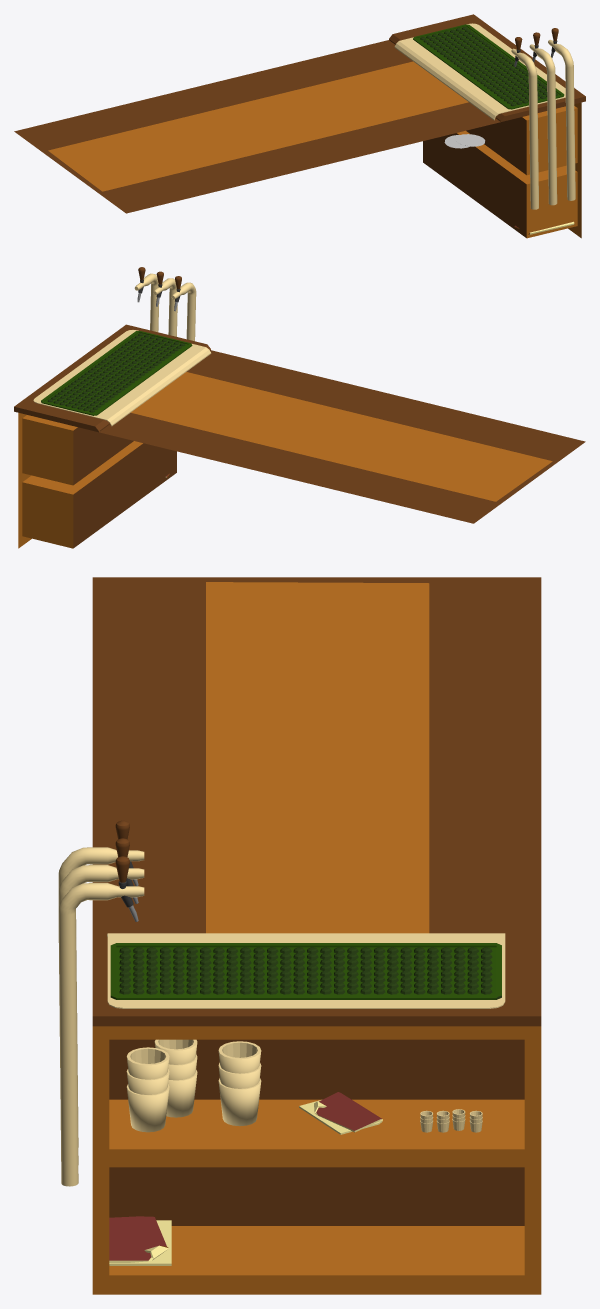
Rendered from Table_whith_color.FBX.
3 renders of one model, top to bottom at view 1: azimuth 30°, elevation 25°; view 2: azimuth 150°, elevation 25°; view 3: azimuth 270°, elevation 25°, orthographic. The views are drawn at different scales.
Visible parts, largest first — view 1: stol, bigpodstavka, skatert, kran.000, kran.002, kran.001, Podstavkapodkrygky.002; view 2: stol, bigpodstavka, skatert, kran.001, kran.002, kran.000; view 3: stol, bigpodstavka, skatert, kran.002, Cylinder.002, stakan, Plane.001, Cylinder.001, tryapka, kran.000, kran.001.
Part boxes in pixels (left/top/right/bottom): stol: left=14, top=14, right=585, bottom=238; bigpodstavka: left=413, top=24, right=564, bottom=109; skatert: left=394, top=23, right=565, bottom=120; kran.000: left=529, top=32, right=557, bottom=205; kran.002: left=548, top=28, right=575, bottom=200; kran.001: left=511, top=37, right=538, bottom=209; Podstavkapodkrygky.002: left=455, top=134, right=485, bottom=146; stol: left=14, top=324, right=585, bottom=548; bigpodstavka: left=41, top=330, right=192, bottom=415; skatert: left=33, top=330, right=211, bottom=426; kran.001: left=171, top=276, right=196, bottom=341; kran.002: left=134, top=267, right=159, bottom=332; kran.000: left=153, top=271, right=177, bottom=336; stol: left=92, top=577, right=541, bottom=1294; bigpodstavka: left=110, top=943, right=501, bottom=999; skatert: left=107, top=933, right=505, bottom=1008; kran.002: left=58, top=856, right=144, bottom=1186; Cylinder.002: left=218, top=1041, right=261, bottom=1126; stakan: left=126, top=1047, right=169, bottom=1132; Plane.001: left=109, top=1216, right=171, bottom=1265; Cylinder.001: left=154, top=1039, right=197, bottom=1117; tryapka: left=299, top=1092, right=382, bottom=1134; kran.000: left=58, top=838, right=144, bottom=1164; kran.001: left=58, top=820, right=144, bottom=1147.
Size of the model in its own units: 7065 by 3074 by 3214.
